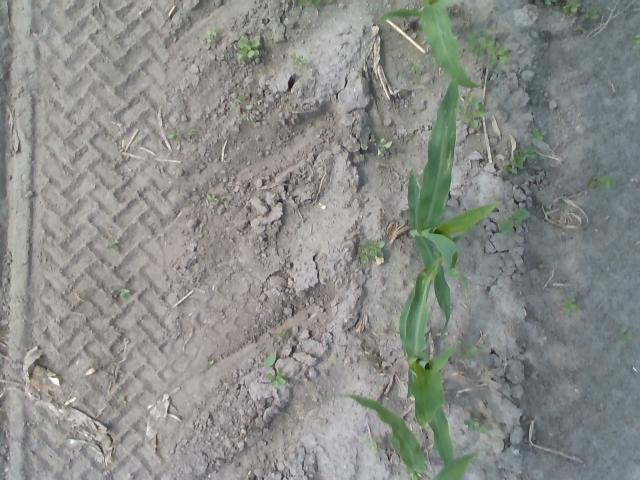Maize: (408, 78, 502, 341), (292, 0, 480, 90), (399, 255, 466, 467), (326, 392, 476, 480)
Weeds: (459, 90, 488, 128), (498, 207, 530, 231), (468, 31, 494, 56), (238, 36, 258, 59), (488, 44, 510, 64), (464, 417, 488, 434), (588, 174, 615, 188), (366, 238, 384, 256), (562, 0, 582, 15), (462, 342, 478, 360), (510, 150, 526, 168), (562, 298, 578, 316), (365, 437, 381, 453), (583, 6, 599, 22), (110, 286, 130, 298), (266, 372, 286, 384), (376, 138, 390, 154), (406, 62, 422, 76), (204, 27, 219, 41), (291, 52, 308, 64), (266, 352, 278, 369), (520, 146, 536, 158), (621, 326, 632, 343), (232, 94, 245, 108), (532, 127, 546, 140), (356, 248, 368, 263), (168, 129, 181, 141), (243, 106, 254, 120), (206, 192, 218, 203), (105, 240, 118, 250), (632, 34, 640, 50), (277, 332, 286, 340), (545, 0, 558, 5), (187, 127, 196, 134), (208, 360, 215, 366)
